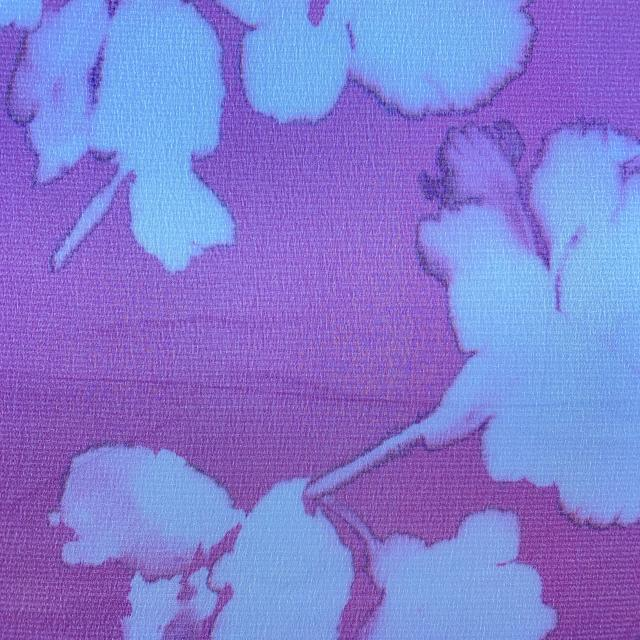pulled_or_thick_thread: (32, 374, 408, 406)
